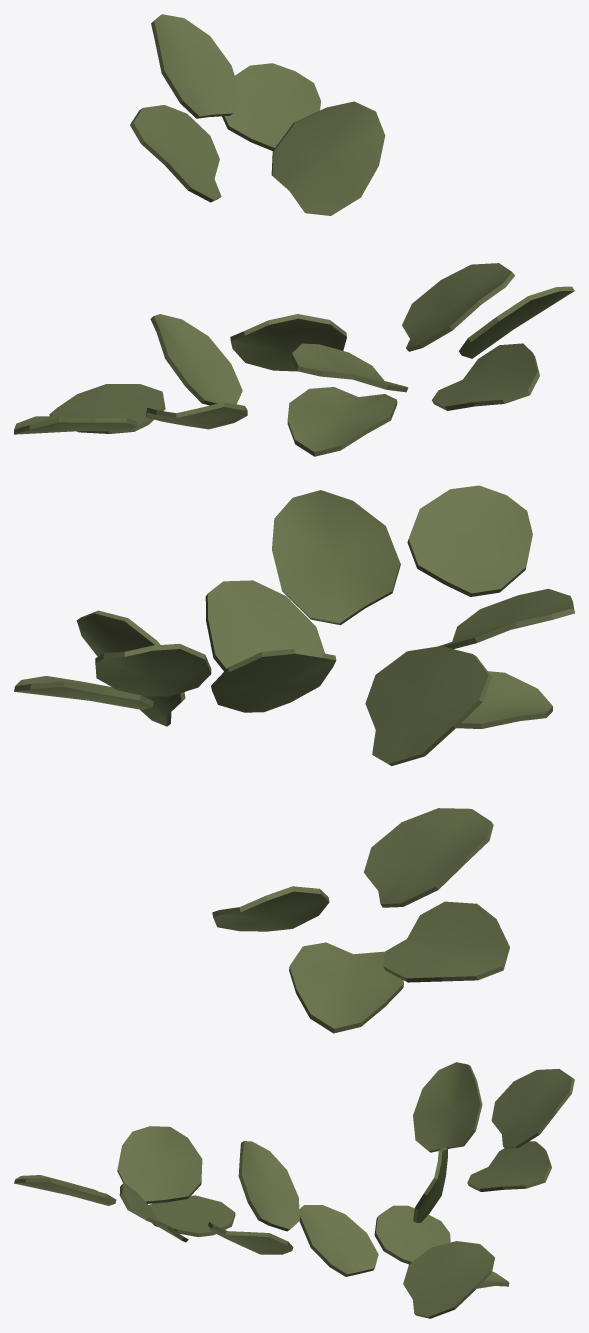
The model's file is yezi4.fbx.
3 renders of one model, top to bottom at view 1: azimuth 30°, elevation 25°; view 2: azimuth 150°, elevation 25°; view 3: azimuth 270°, elevation 25°, orthographic. The views are drawn at different scales.
Visible parts, largest first — view 1: polySurface66; view 2: polySurface66; view 3: polySurface66.
Boxes of the visible parts, left/top/right/bottom form: polySurface66: left=14, top=14, right=574, bottom=456; polySurface66: left=14, top=485, right=574, bottom=1033; polySurface66: left=14, top=1062, right=574, bottom=1318.
Size of the model in its own units: 2.34 by 1.99 by 3.79.
